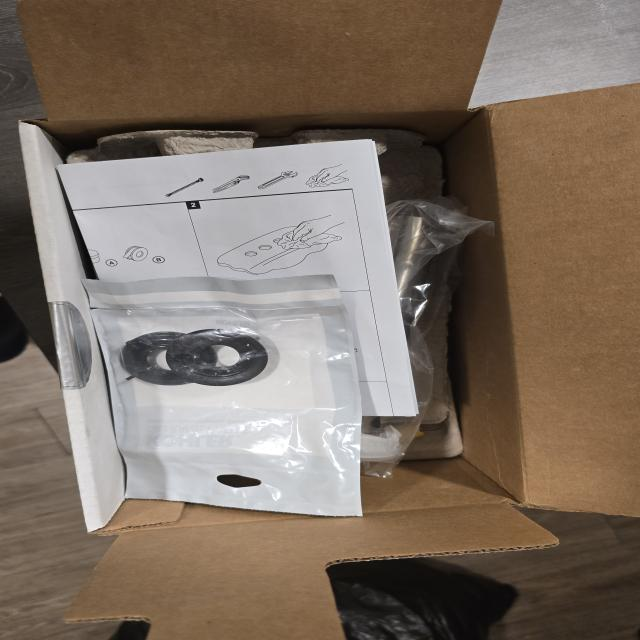11o: (362, 200, 494, 444), (363, 444, 405, 477)
13: (82, 275, 361, 516)
8: (56, 140, 417, 418)
